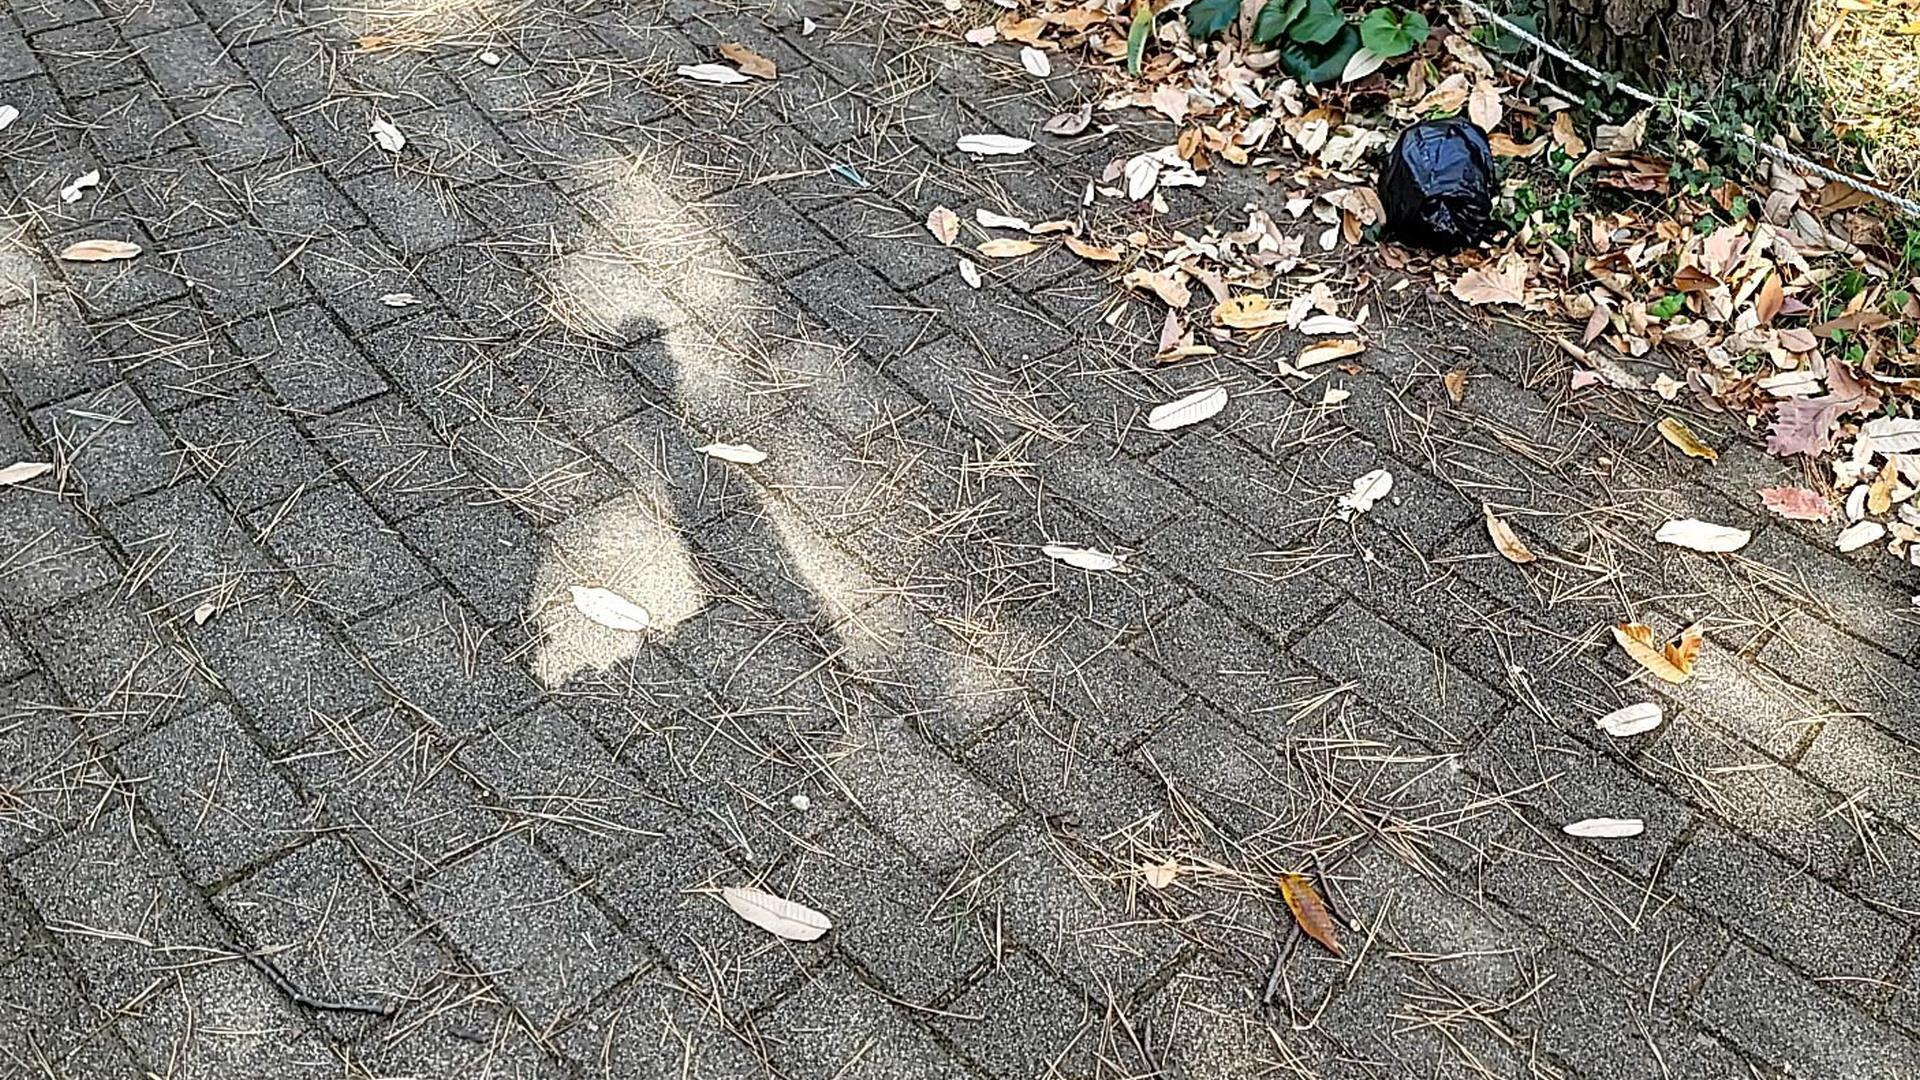black_bag: (1364, 112, 1505, 258)
